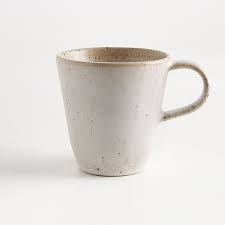cup: (54, 37, 216, 179)
